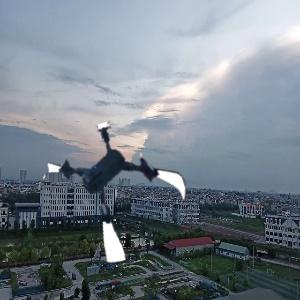drone: (47, 123, 189, 265)
